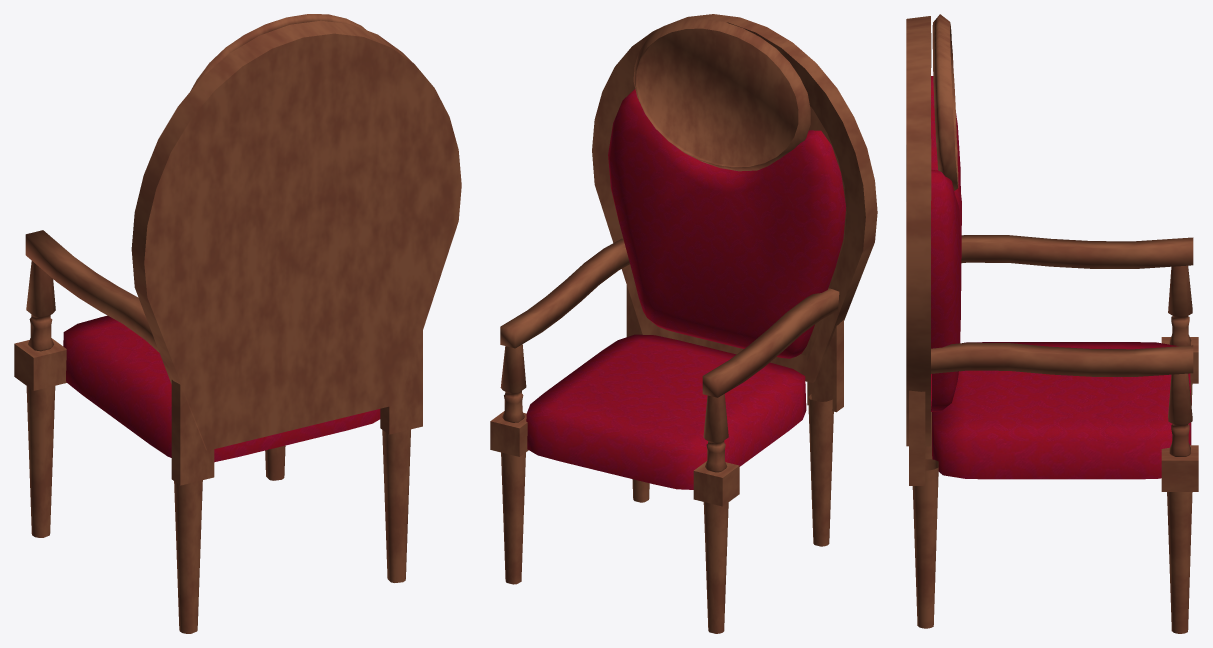
Rendered from Silla1.fbx.
3 views of the same model, side by side, from view 1: azimuth 30°, elevation 25°; view 2: azimuth 150°, elevation 25°; view 3: azimuth 270°, elevation 25° (orthographic). The views are drawn at different scales.
Visible parts, largest first — view 1: Cube.060; view 2: Cube.060; view 3: Cube.060.
Part boxes in pixels (box(x1,y1,x2,y2)): Cube.060: box(14, 14, 461, 633); Cube.060: box(490, 14, 877, 633); Cube.060: box(906, 14, 1198, 633).
Size of the model in its own units: 41.6 by 72.86 by 35.06.
